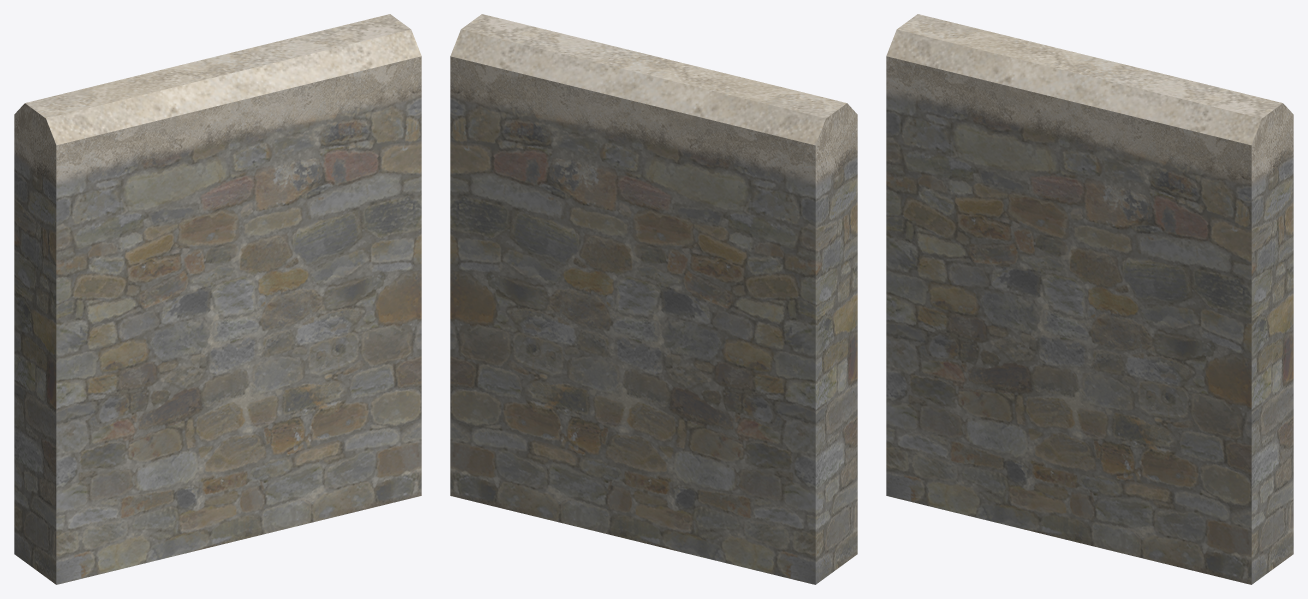
Rendered from Wall.glb.
3 views of the same model, side by side, from view 1: azimuth 30°, elevation 25°; view 2: azimuth 150°, elevation 25°; view 3: azimuth 330°, elevation 25° (orthographic).
Visible parts, largest first — view 1: Wall; view 2: Wall; view 3: Wall.
Part boxes in pixels (bbox=[...]): Wall: bbox=[14, 14, 421, 584]; Wall: bbox=[450, 14, 857, 584]; Wall: bbox=[886, 14, 1293, 584].
Size of the model in its own units: 0.025 by 0.03 by 0.005.
1 material, 1 textured.
